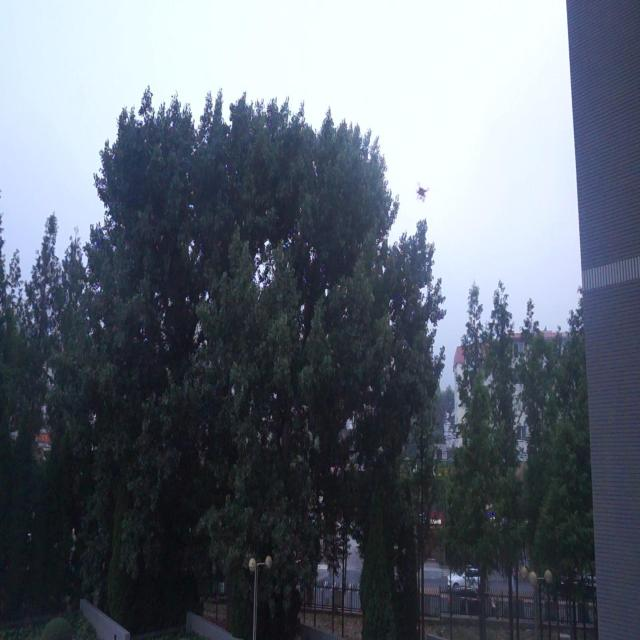drone: (414, 180, 431, 203)
